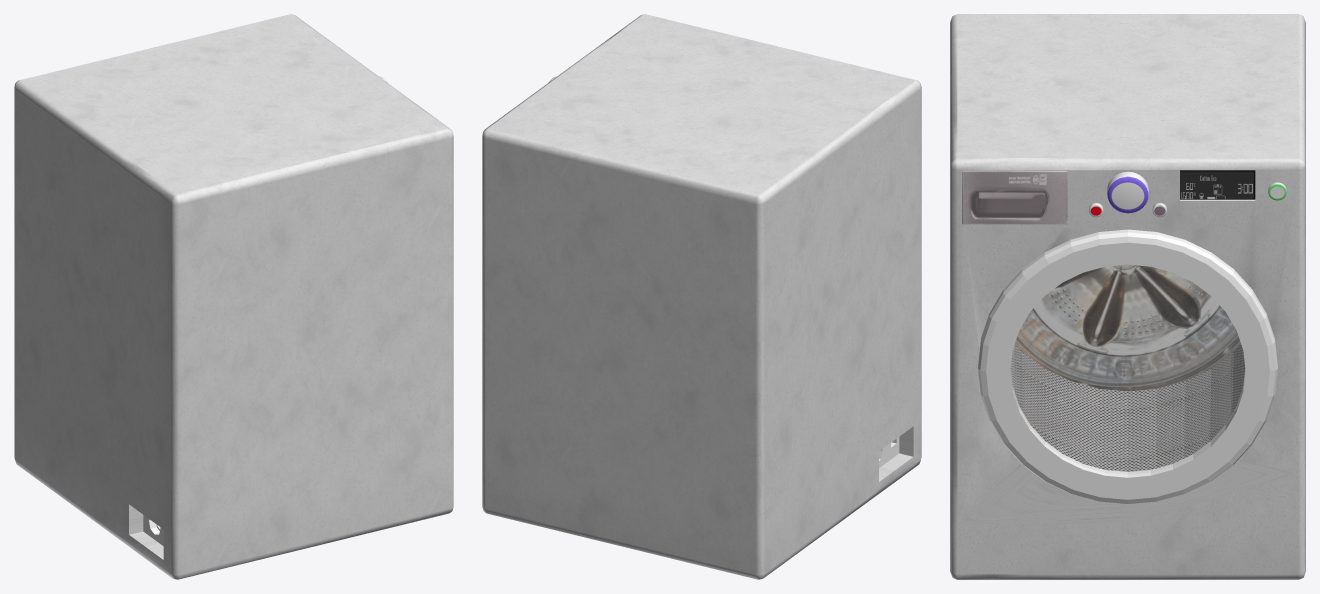
3 renders of one model, left to right at view 1: azimuth 30°, elevation 25°; view 2: azimuth 150°, elevation 25°; view 3: azimuth 270°, elevation 25°, orthographic. The views are drawn at different scales.
Visible parts, largest first — view 1: Simple Dryer; view 2: Simple Dryer; view 3: Simple Dryer, Washer Dryer 1 Door.001, Washer Dryer 1 Drum, Washer Dryer 1 Drawer.
Boxes of the visible parts, x1,y1,x2,y2 form: Simple Dryer: [14, 14, 453, 579]; Simple Dryer: [482, 14, 921, 579]; Simple Dryer: [950, 14, 1305, 579]; Washer Dryer 1 Door.001: [978, 229, 1277, 504]; Washer Dryer 1 Drum: [1010, 264, 1245, 471]; Washer Dryer 1 Drawer: [961, 171, 1067, 224].
Bounding box in the file's own units: 9.15 × 11.52 × 8.81.
Materials: 7 (5 with a texture image).
